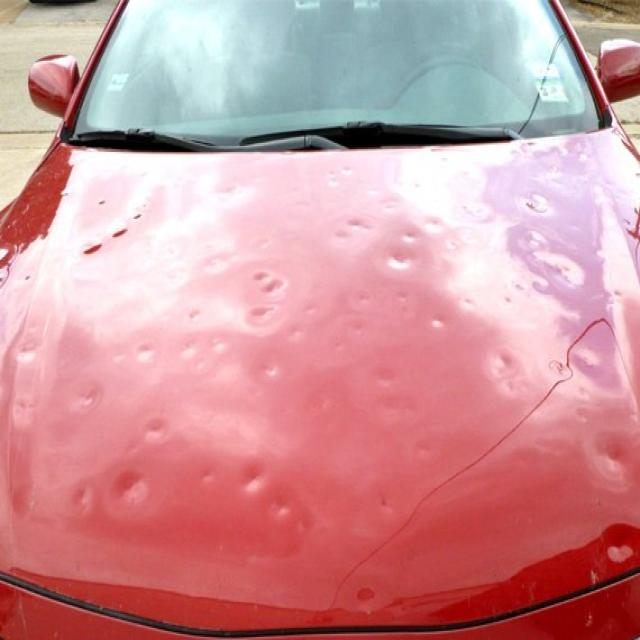dent: (0, 135, 640, 640)
